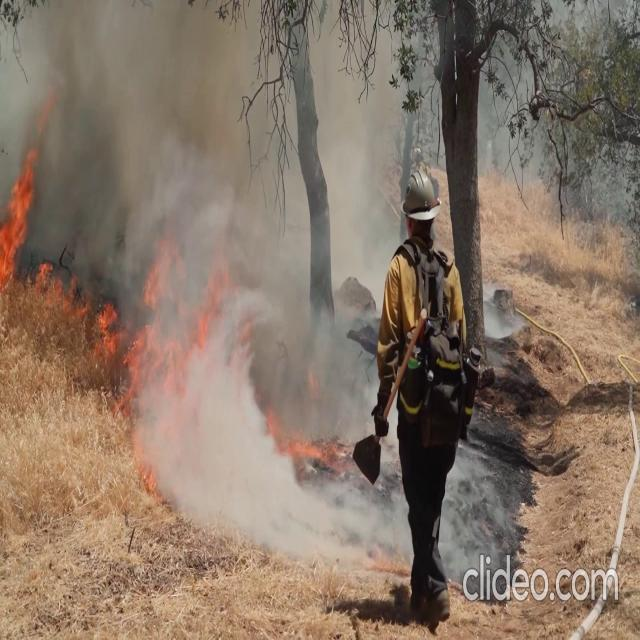Fire: (0, 139, 94, 319), (0, 143, 40, 301)
Smoke: (11, 6, 377, 556)
